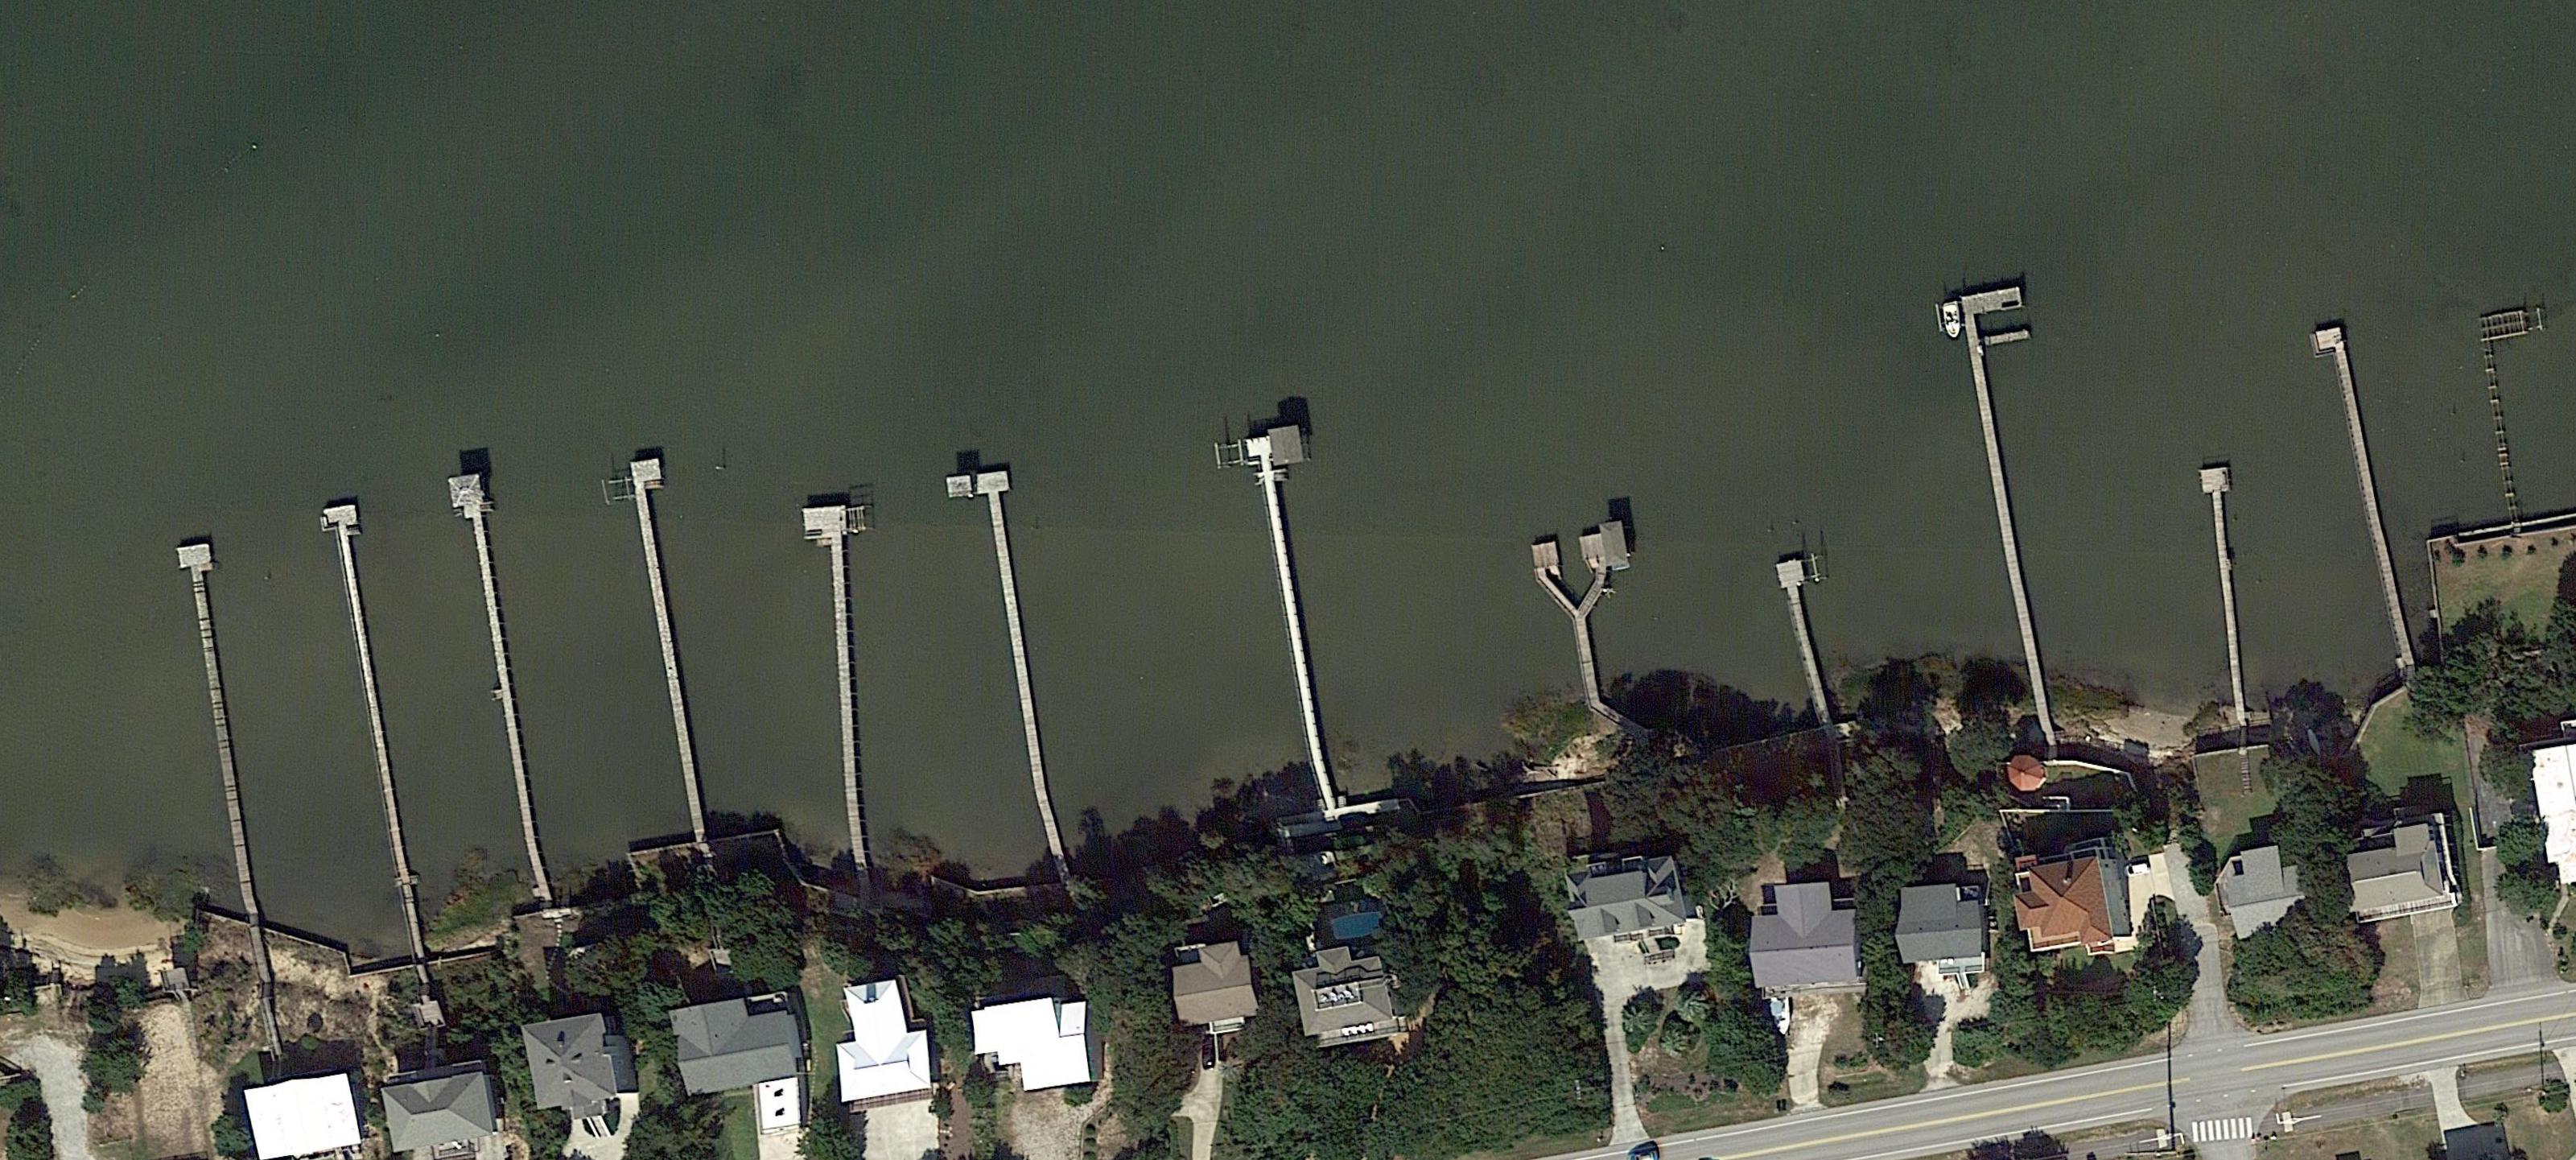harbor: (1960, 288, 2093, 725), (317, 504, 430, 910), (945, 470, 1058, 795), (1245, 424, 1357, 746), (177, 544, 269, 920), (447, 475, 544, 830), (2310, 327, 2412, 659), (629, 458, 716, 800), (1526, 521, 1649, 708), (802, 508, 864, 792), (2200, 468, 2256, 707), (1776, 560, 1835, 716)
ship: (1769, 996, 1794, 1037), (1940, 301, 1963, 342)
